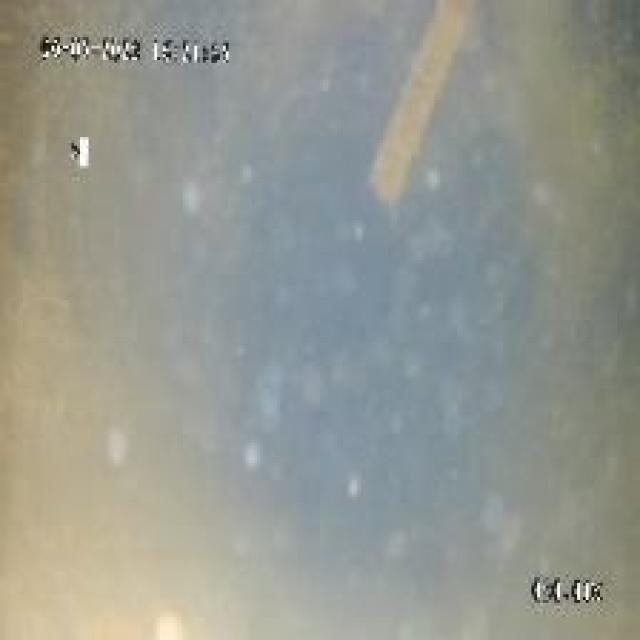ferrule: (363, 3, 486, 206)
